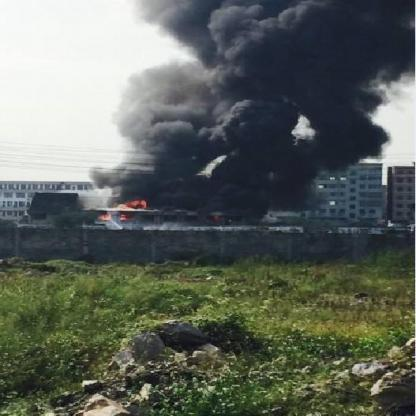fire: (94, 195, 154, 226)
smoke: (75, 0, 414, 206)
